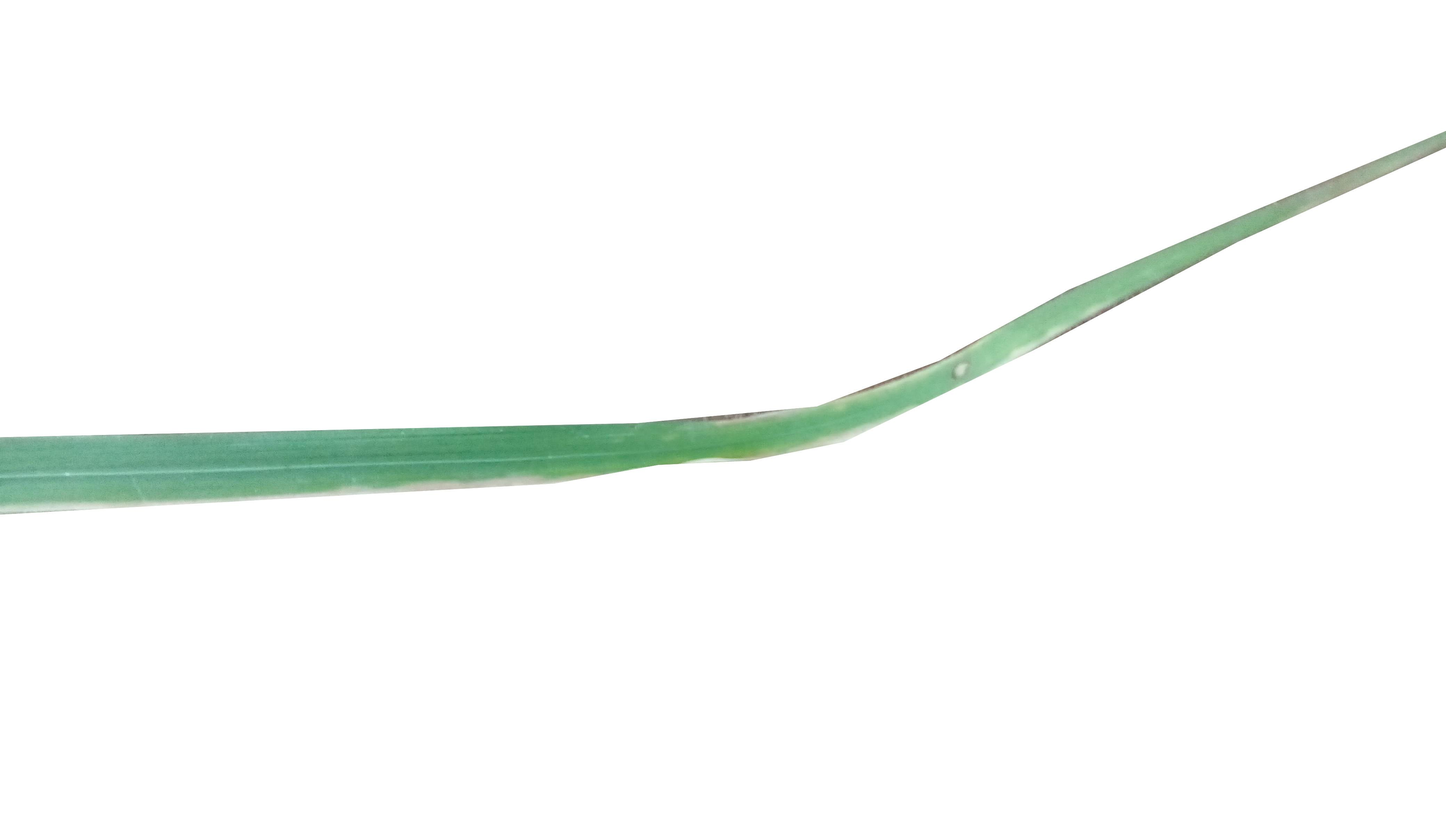Blight: (942, 363, 972, 382)
